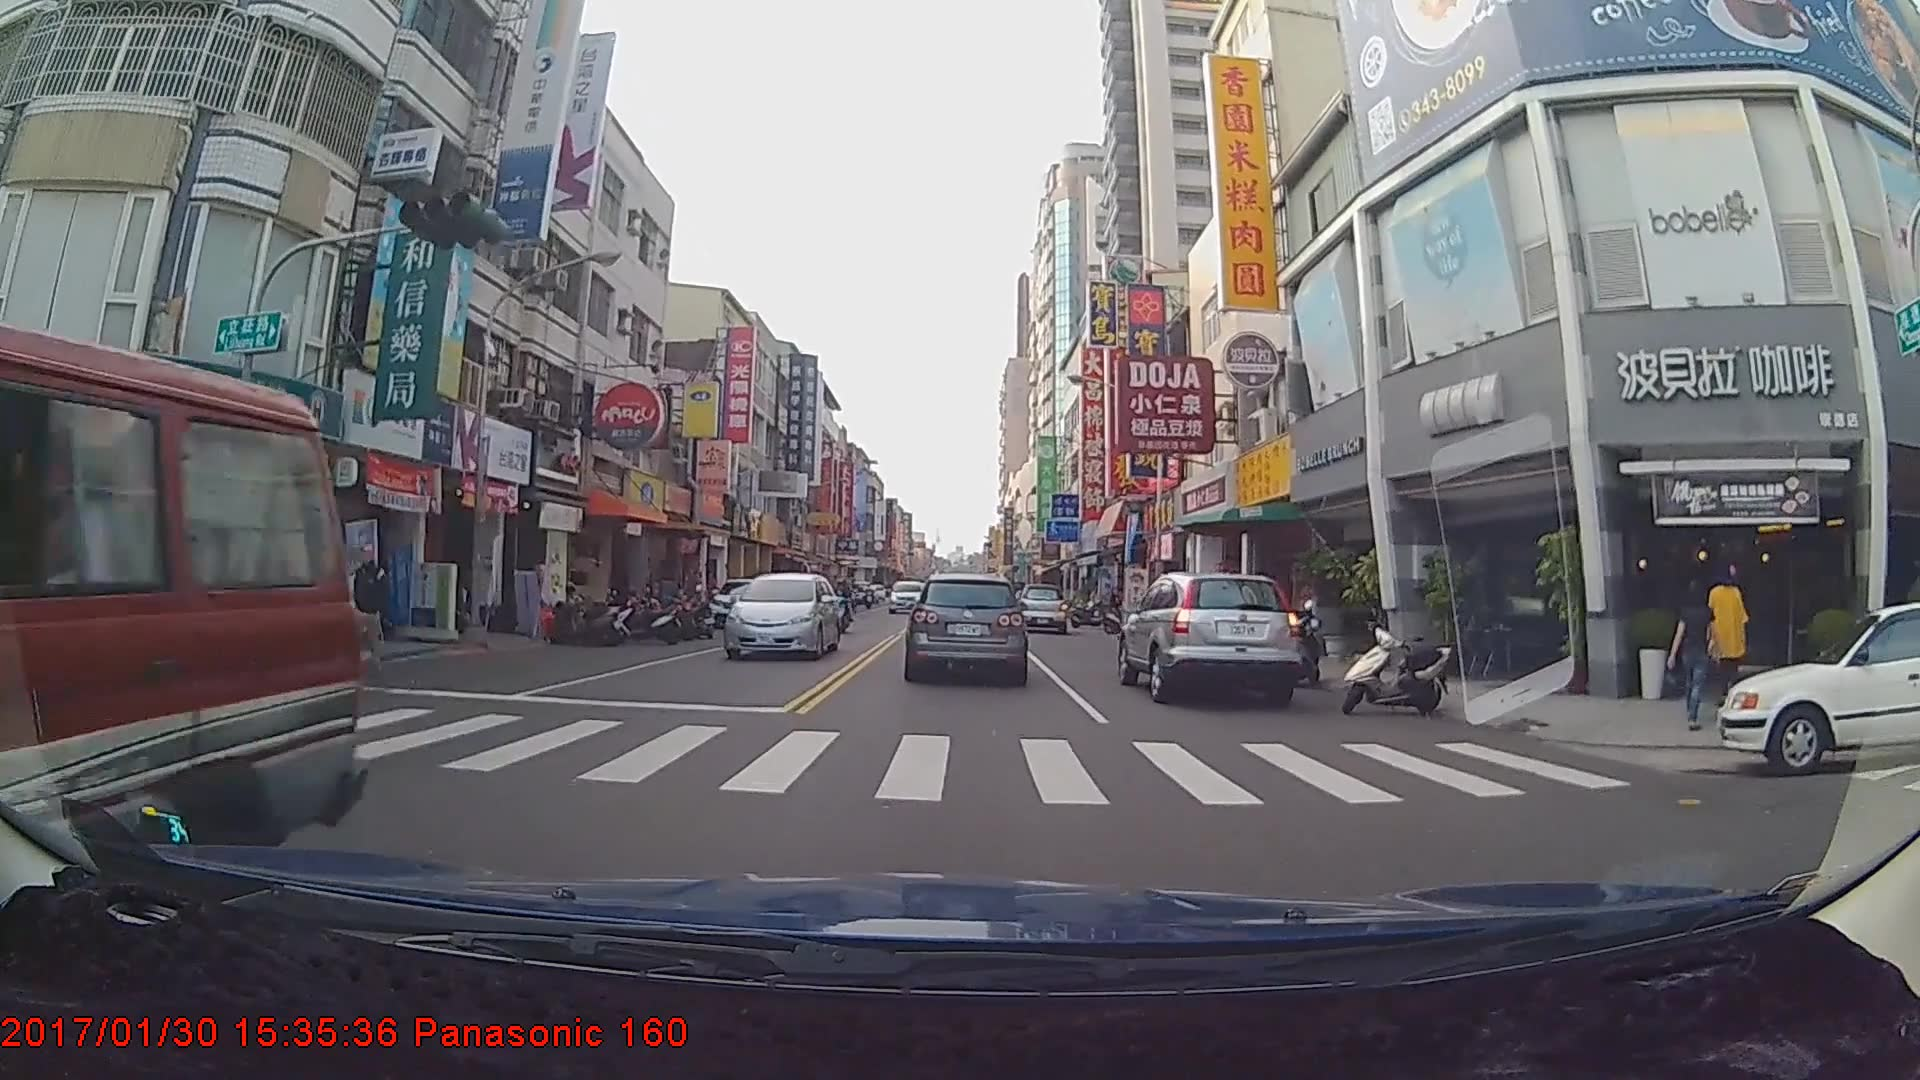pedestrian: (1669, 578, 1722, 733), (1704, 567, 1753, 704), (340, 539, 390, 672)
vehicle: (0, 320, 362, 1039), (1715, 599, 1920, 777), (1115, 568, 1301, 710), (905, 571, 1026, 681), (723, 571, 841, 661), (707, 576, 768, 626), (1013, 582, 1066, 632), (886, 580, 925, 615)
